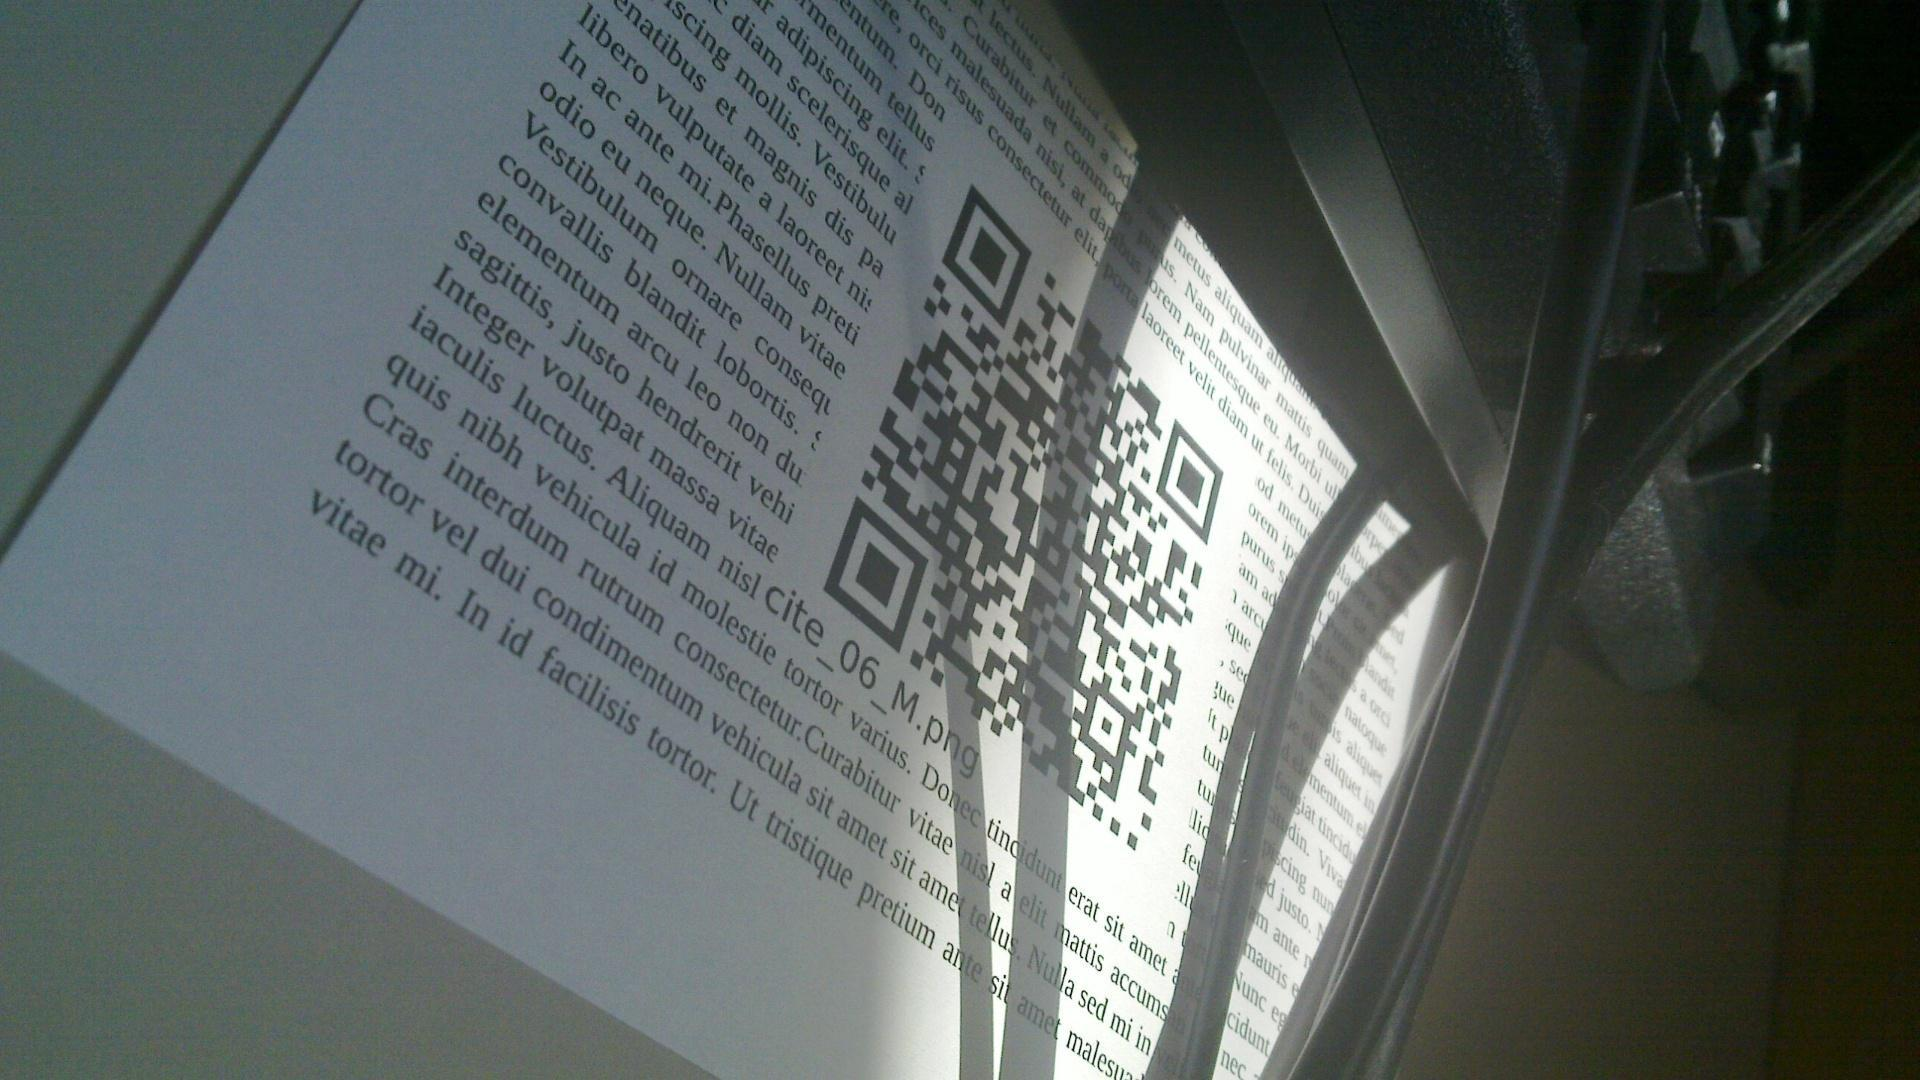Finder pattern: (828, 485, 926, 659), (945, 175, 1033, 328), (1151, 414, 1228, 545)
